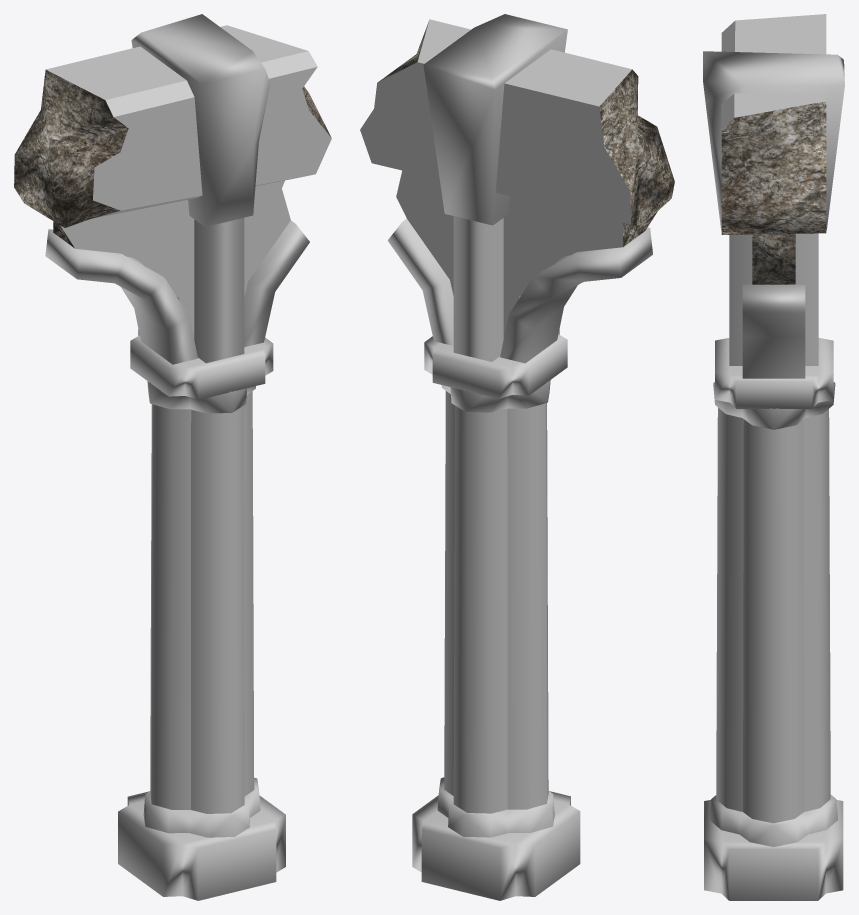
The model's file is Ruins_17_LOD1.fbx.
3 renders of one model, left to right at view 1: azimuth 30°, elevation 25°; view 2: azimuth 150°, elevation 25°; view 3: azimuth 270°, elevation 25°, orthographic.
Visible parts, largest first — view 1: polySurface5388; view 2: polySurface5388; view 3: polySurface5388.
Boxes of the visible parts, x1=… form: polySurface5388: x1=14, y1=14, x2=331, y2=900; polySurface5388: x1=360, y1=14, x2=674, y2=900; polySurface5388: x1=703, y1=14, x2=844, y2=900.
Bounding box in the file's own units: 2.32 × 6.68 × 1.07.
